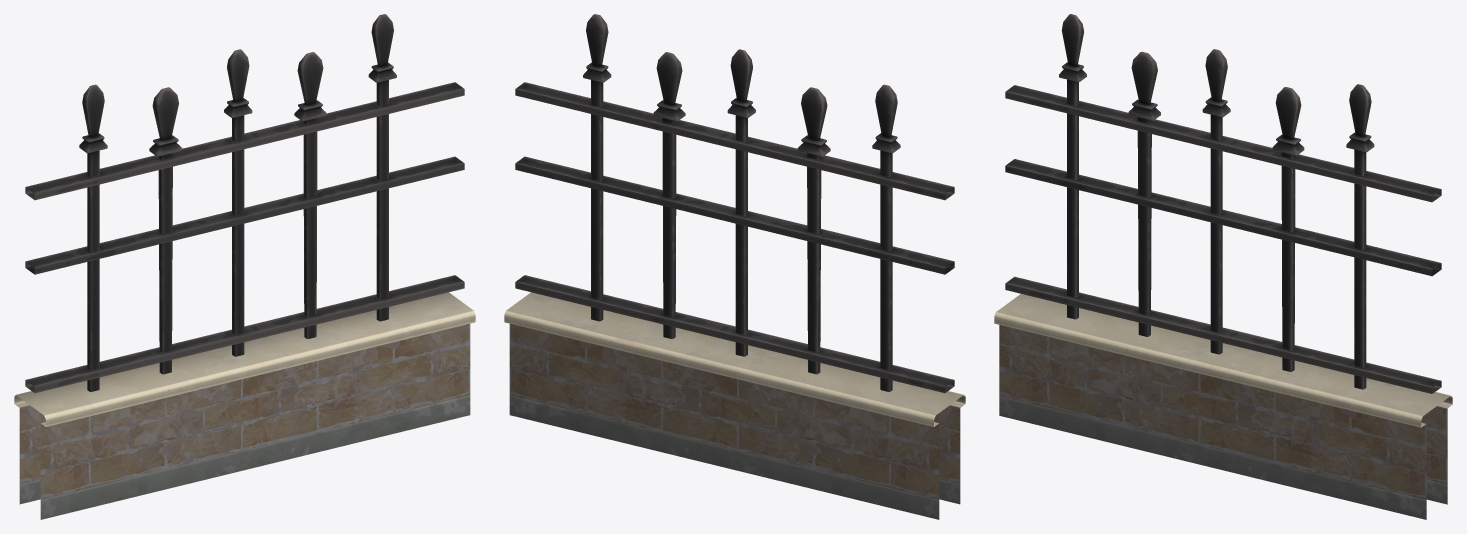
The model's file is StreetFence02_B4.FBX.
3 views of the same model, side by side, from view 1: azimuth 30°, elevation 25°; view 2: azimuth 150°, elevation 25°; view 3: azimuth 330°, elevation 25° (orthographic).
Visible parts, largest first — view 1: StreetFence02_B4; view 2: StreetFence02_B4; view 3: StreetFence02_B4.
Part boxes in pixels (box(x1,y1,x2,y2)): StreetFence02_B4: box(14, 14, 475, 519); StreetFence02_B4: box(504, 14, 965, 519); StreetFence02_B4: box(994, 14, 1452, 519).
Size of what is drawn, in the model's own units: 2.1 by 1.92 by 0.2685.
